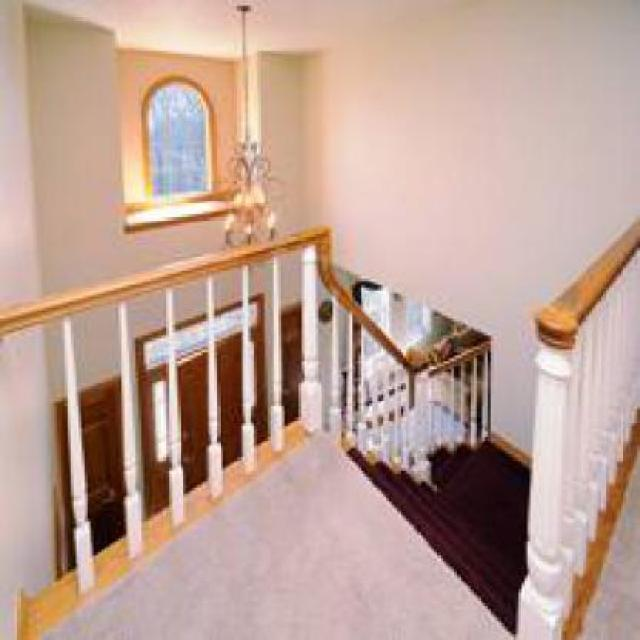stair: (308, 348, 542, 598)
